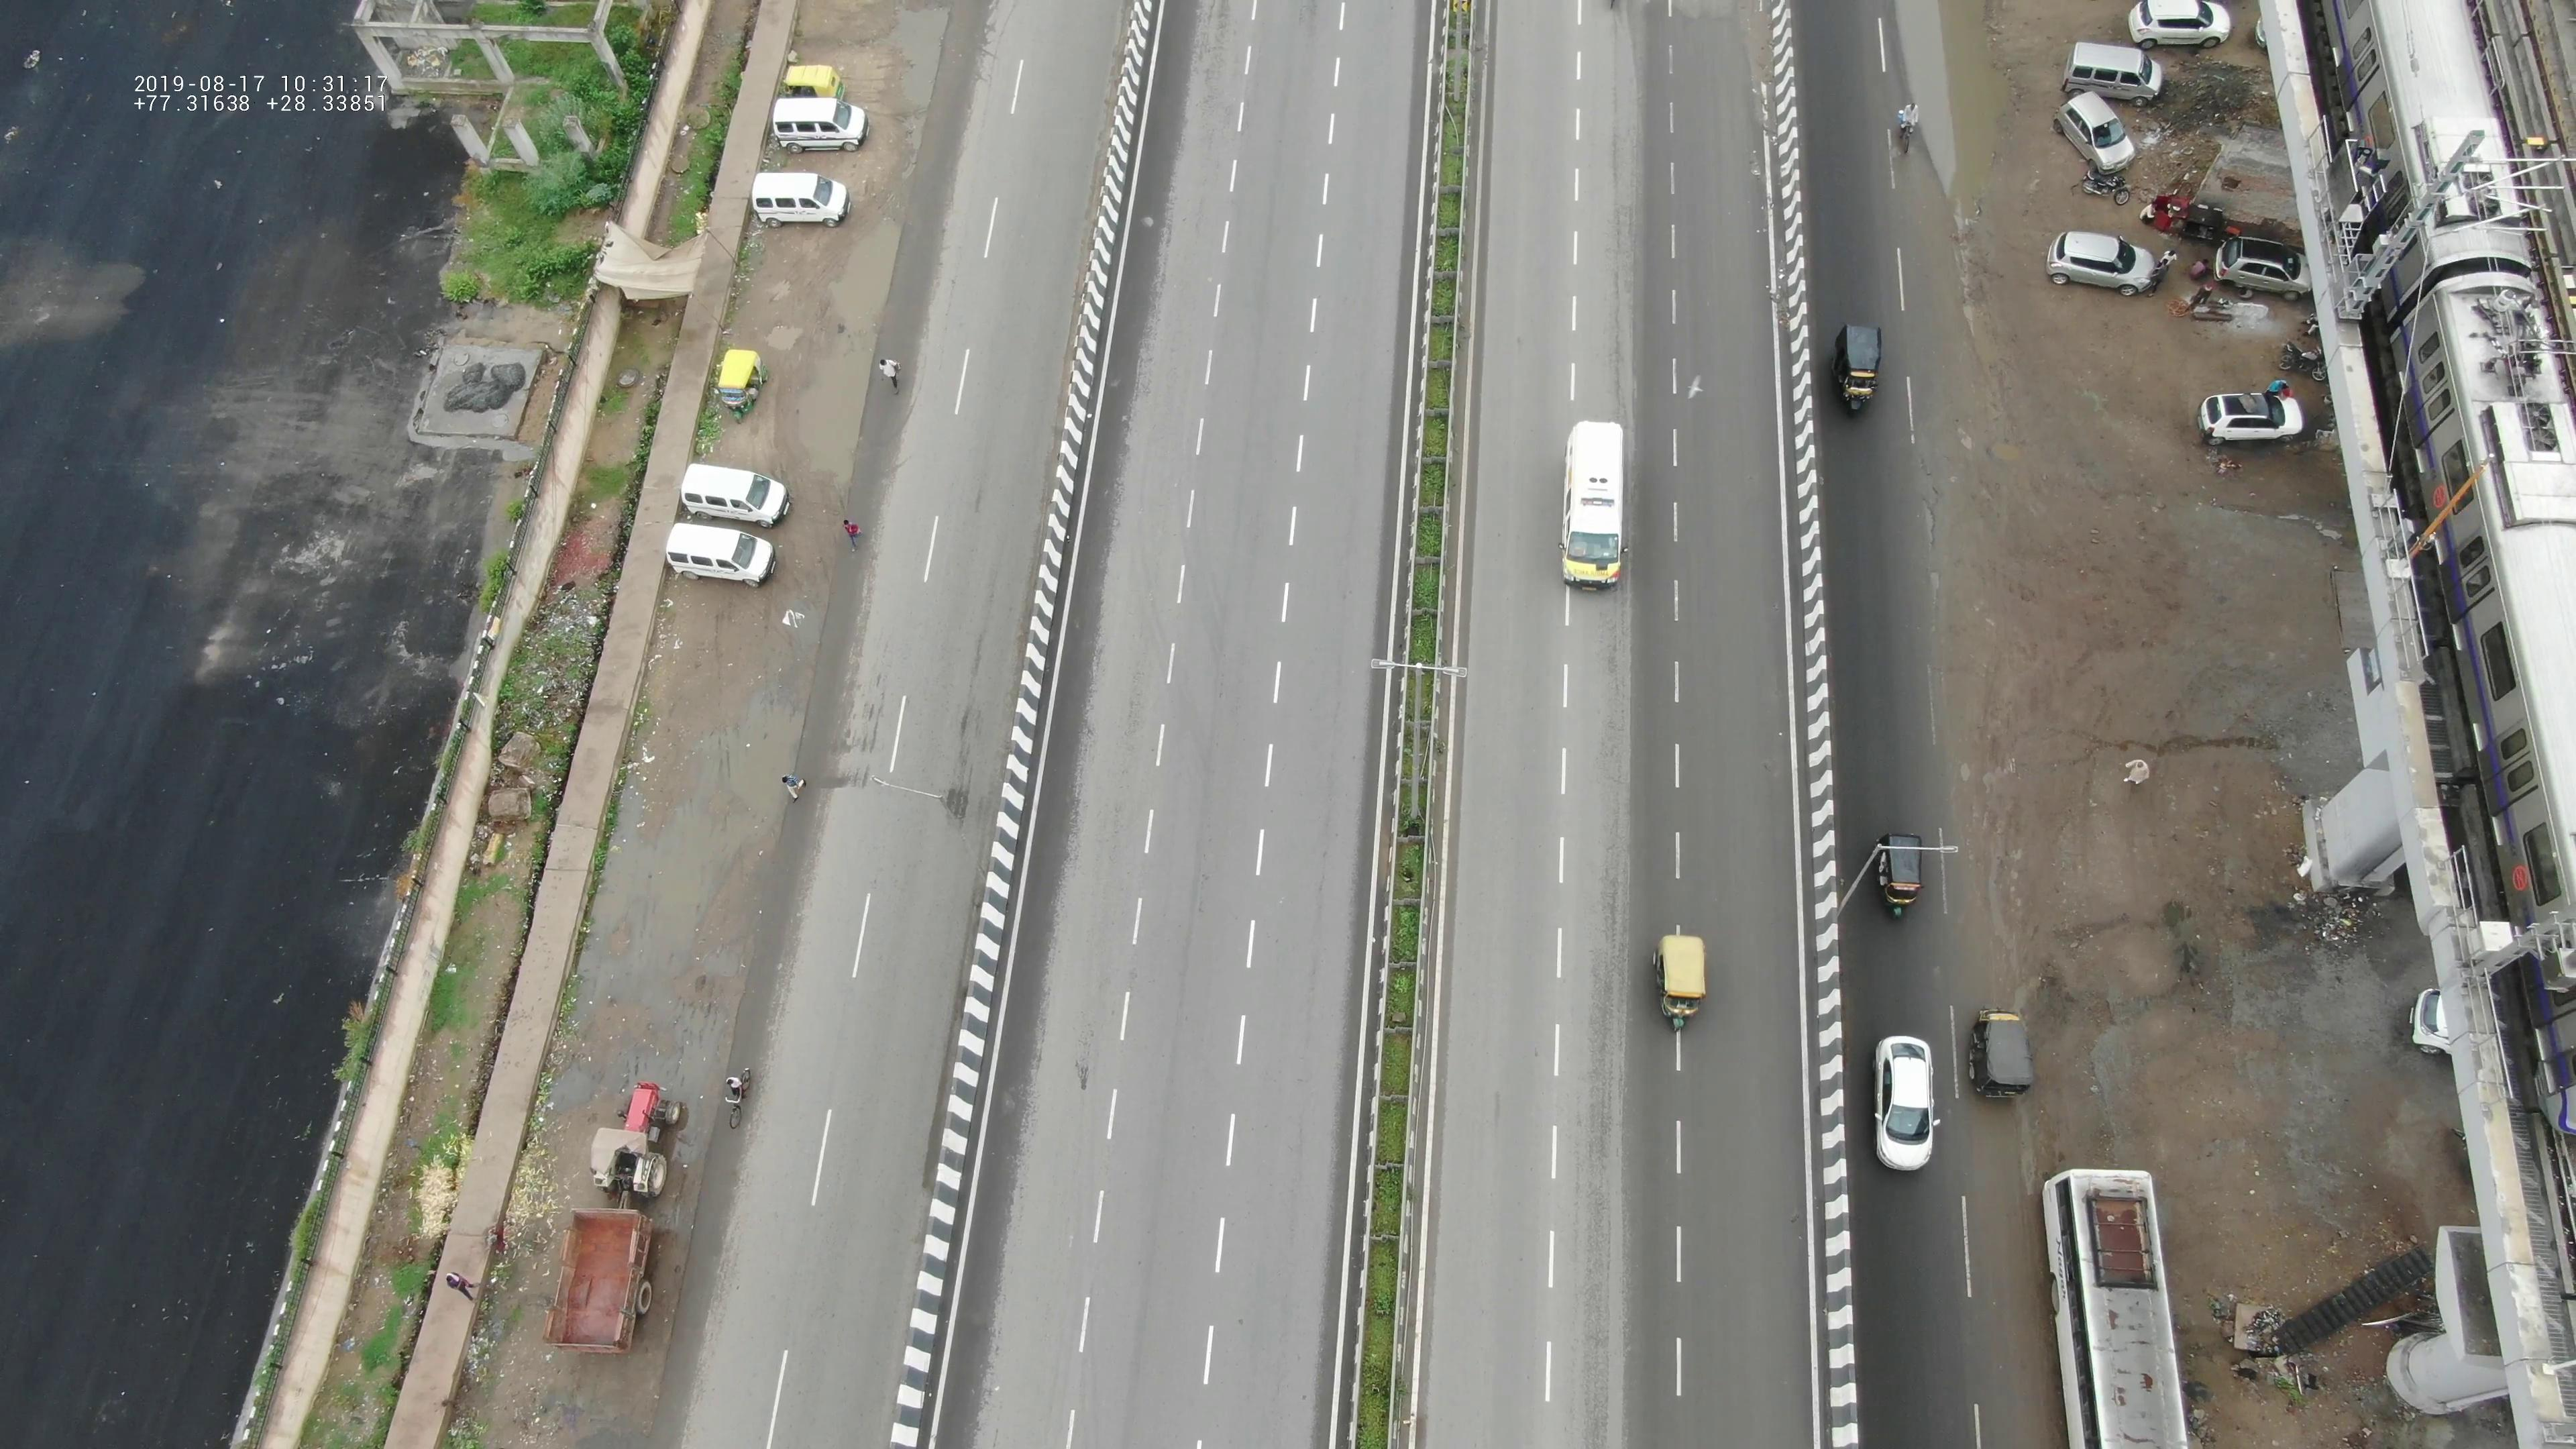Waterlogging: (547, 713, 786, 1102), (786, 205, 922, 432), (1877, 4, 1978, 186)
